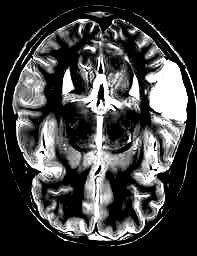Tumor: (143, 62, 191, 129)
